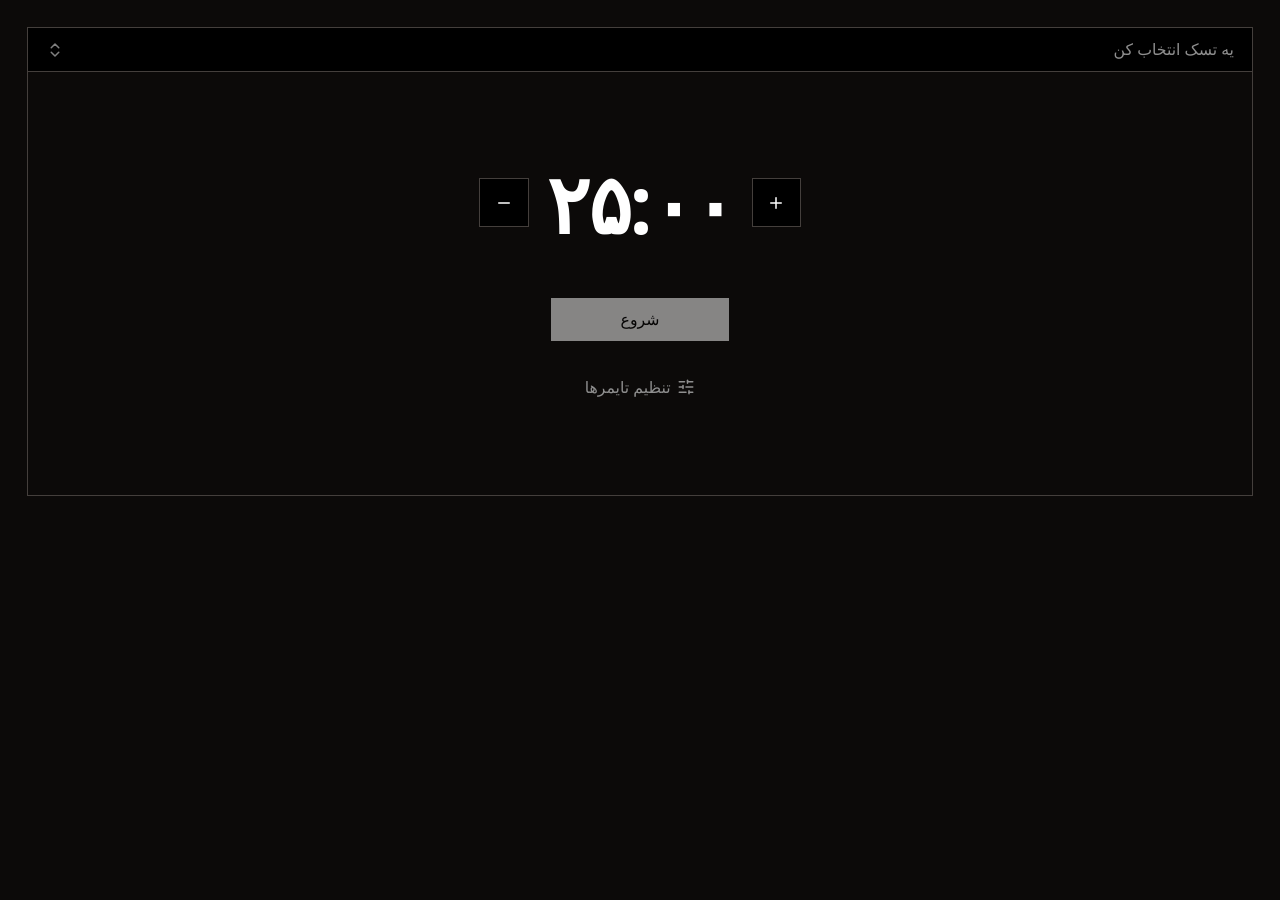
Test case: the settings dialog › shows the three intervals this device is set to
The image size is (1280, 900).
Click the button "تنظیم تایمرها".
click(640, 387)  # box x1=570 y1=369 x2=710 y2=405
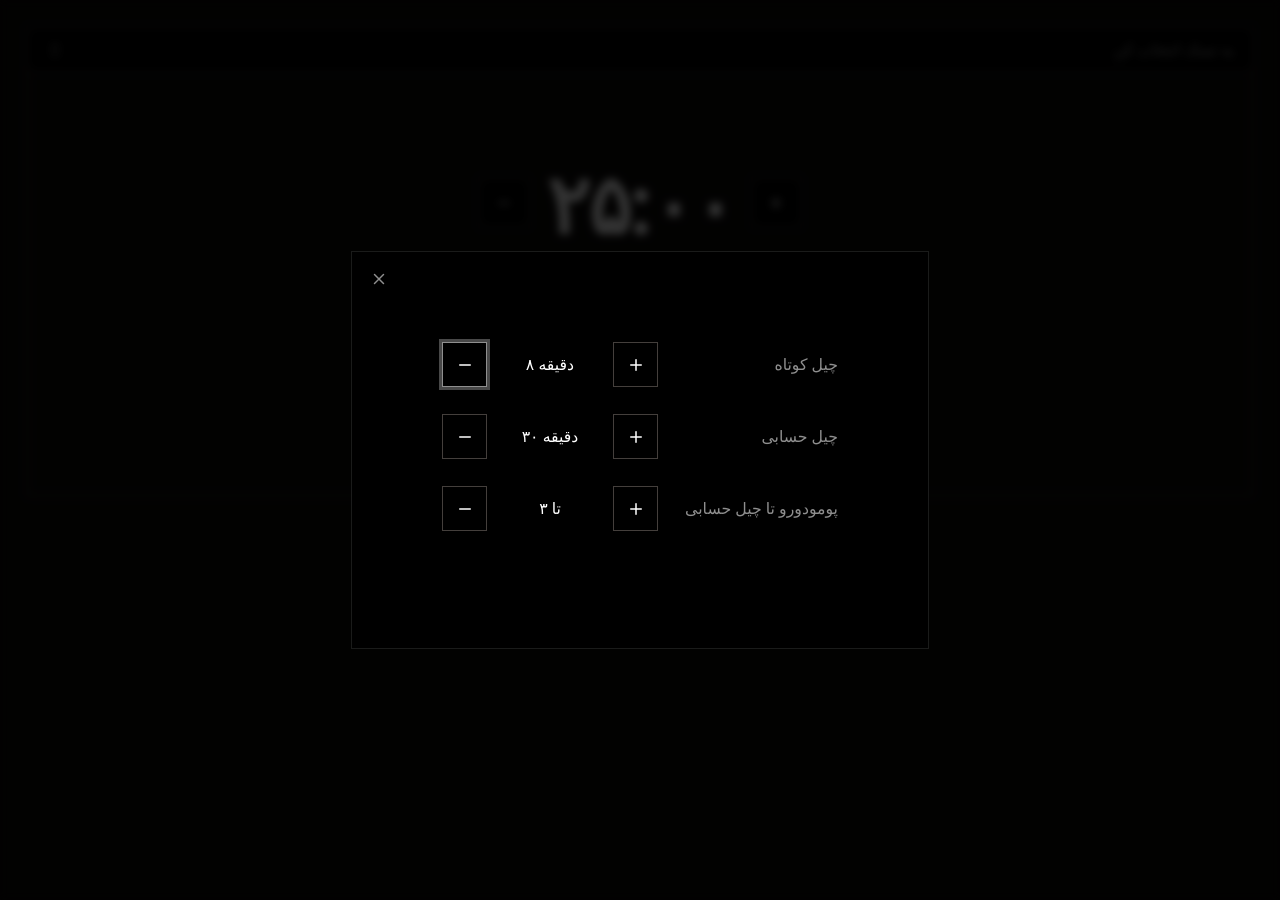
Result: the text "۳ تا" is shown at x1=539 y1=497 x2=561 y2=519
